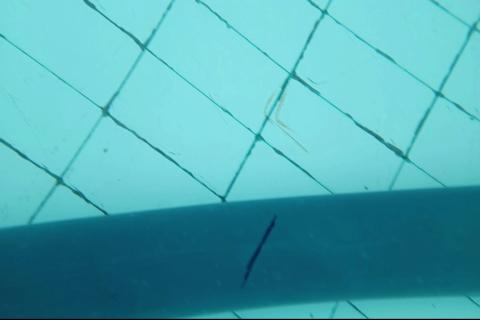keretakan: (238, 214, 279, 291)
